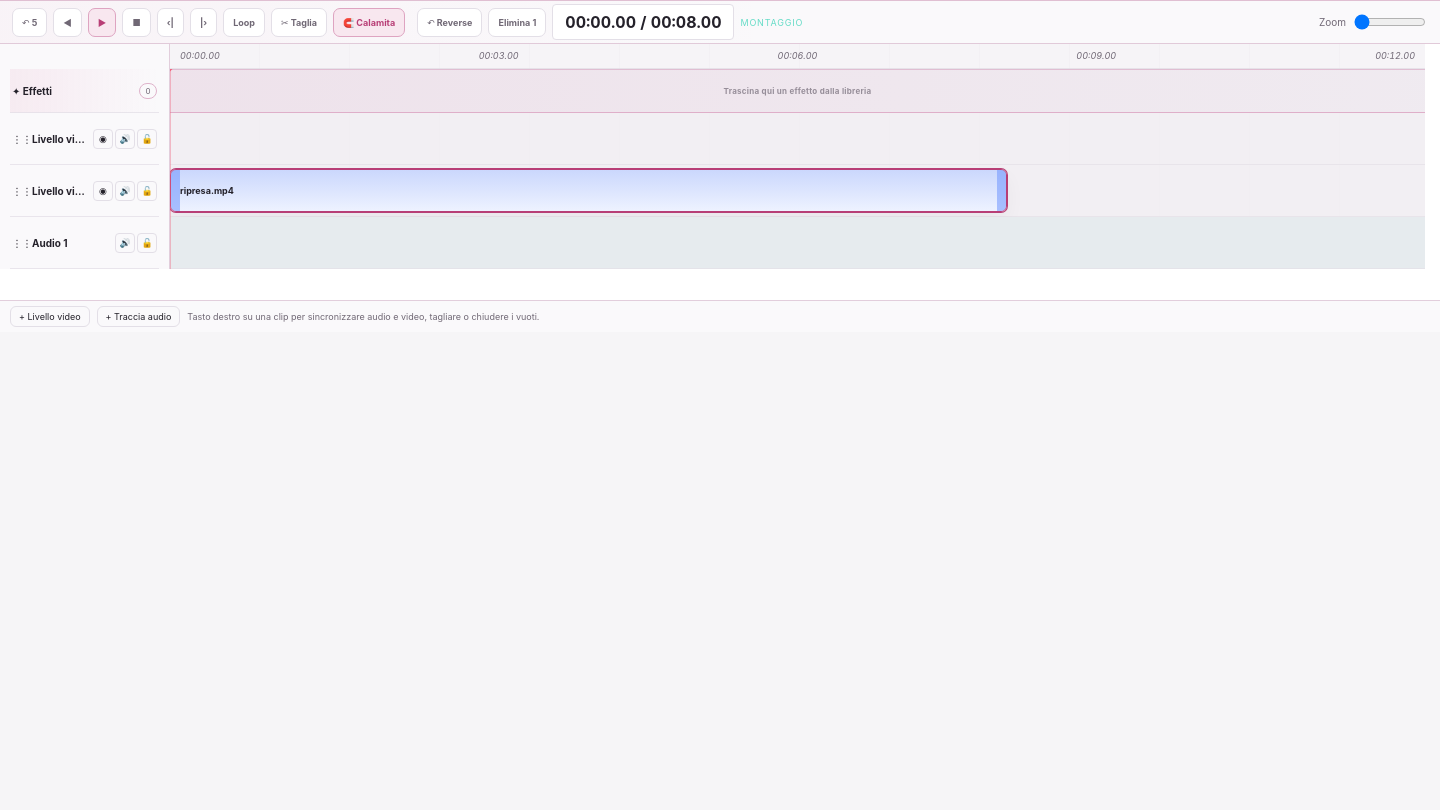
it: VideoEditorTimeline · trim dei fermi immagine › mantiene il menu contestuale interamente dentro la viewport vicino al bordo inferiore
The width and height of the screenshot is (1440, 810).
Right-click the button with aria-label "Clip ripresa.mp4" at (207, 190), box [171,170,1006,211]
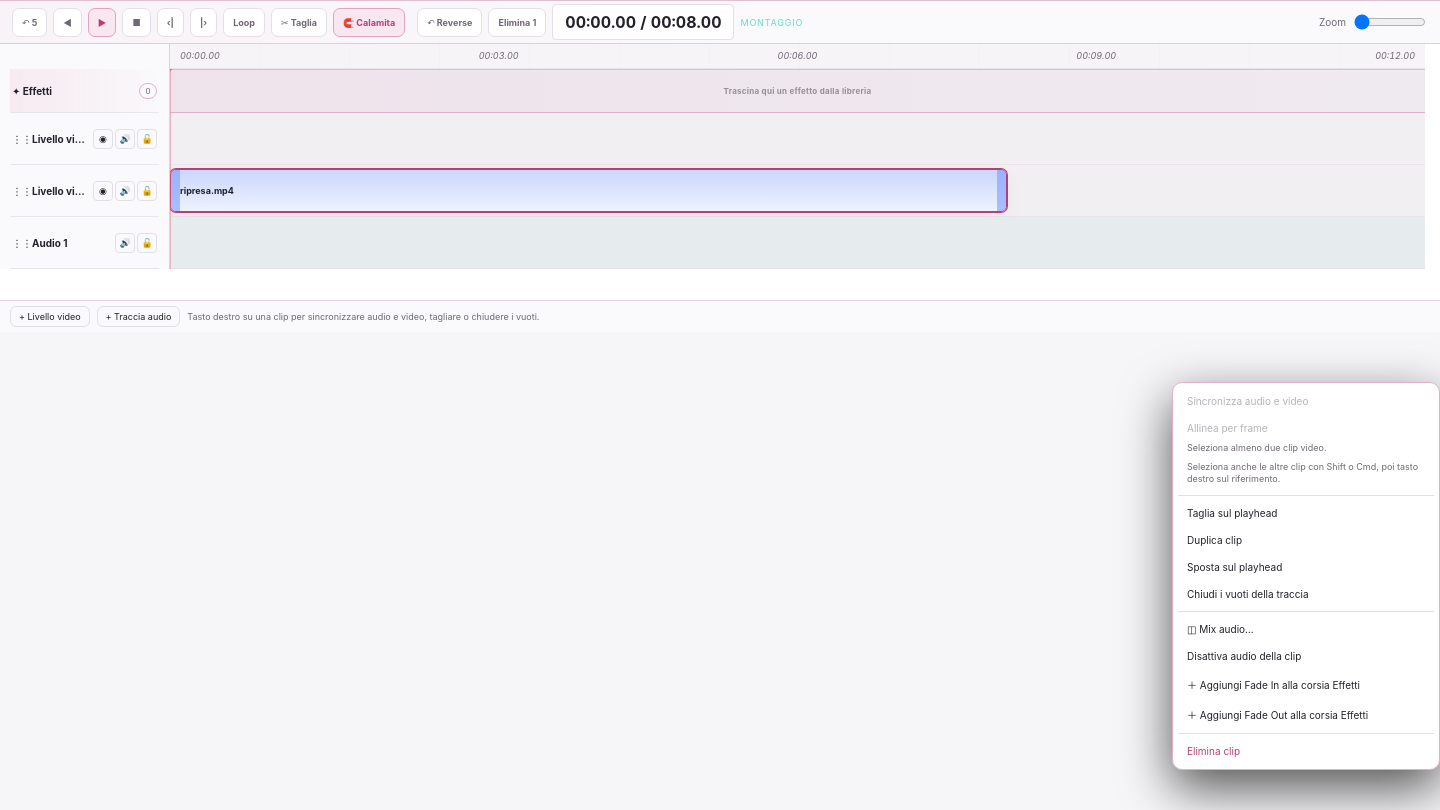
Expected: the menu item "Elimina clip" is shown, [1178,738,1434,764]
